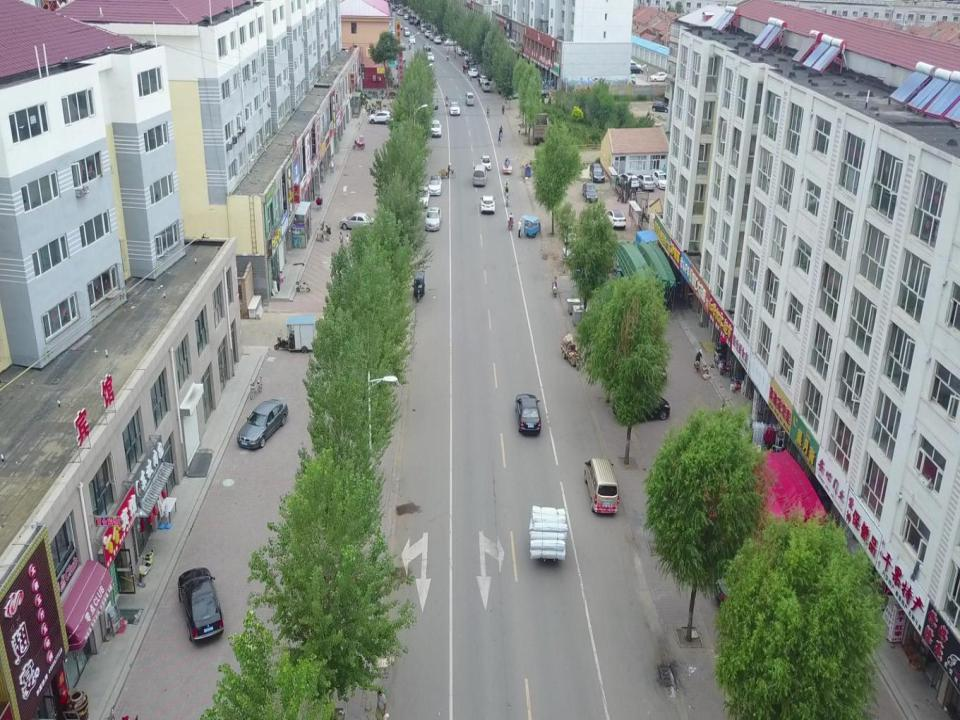car: (177, 566, 224, 646), (236, 400, 288, 450), (612, 390, 670, 424), (713, 574, 760, 602), (514, 392, 541, 436), (340, 212, 376, 230), (602, 209, 626, 230), (424, 206, 442, 232), (616, 173, 639, 189), (368, 110, 394, 124), (637, 173, 655, 192), (582, 182, 598, 203), (652, 170, 668, 190), (480, 194, 496, 214), (416, 186, 430, 208), (590, 162, 605, 182), (428, 175, 442, 195), (505, 84, 522, 99), (430, 121, 442, 138), (480, 154, 491, 170), (464, 52, 480, 62), (449, 101, 460, 115), (428, 97, 438, 110), (443, 38, 458, 46), (457, 46, 470, 55), (479, 75, 489, 85), (468, 68, 478, 77), (426, 53, 434, 63), (398, 40, 406, 50), (423, 41, 430, 52), (425, 29, 432, 38), (434, 37, 442, 44), (407, 37, 415, 44), (429, 34, 435, 40), (409, 18, 414, 25), (397, 22, 402, 29), (404, 14, 408, 20)
truck: (532, 109, 549, 144)
van: (583, 457, 620, 517), (472, 164, 487, 186), (396, 58, 407, 70), (466, 93, 474, 106), (482, 81, 490, 92), (403, 26, 410, 37), (420, 24, 426, 33)
